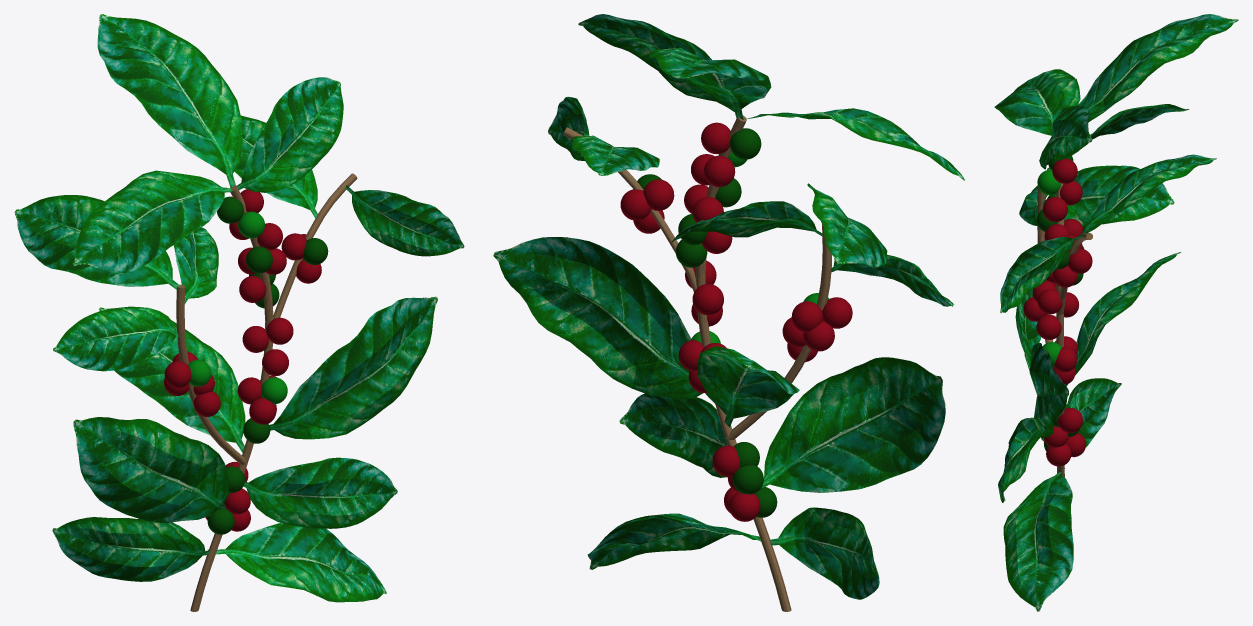
Rendered from planta.gltf.
The picture shows the model from 3 angles, left to right: view 1: azimuth 30°, elevation 25°; view 2: azimuth 150°, elevation 25°; view 3: azimuth 270°, elevation 25°; orthographic projection. The views are drawn at different scales.
Parts seen in each view (by area): view 1: Hoja 2, Hoja 2.001, Hoja 2.005, Hoja 1, Hoja 1.006, Hoja 3.001, Hoja 3, Hoja 3.005, Hoja 2.007, Hoja 3.006, Hoja 1.001, Hoja 2.004 (+5 smaller); view 2: Hoja 2.005, Hoja 2.001, Hoja 3.005, Hoja 3.001, Hoja 1.001, Hoja 1.006, Hoja 2, Hoja 3, Hoja 2.007, Hoja 3.004, Hoja 1, Rama 1 (+18 smaller); view 3: Hoja 1.006, Hoja 2, Hoja 1, Hoja 3.004, Hoja 2.006, Hoja 2.004, Hoja 1.001, Hoja 2.005, Hoja 3.005, Hoja 3, Hoja 3.001, Hoja 2.007 (+18 smaller).
Part boxes in pixels (bbox=[...]): Hoja 2: bbox=[97, 14, 242, 188]; Hoja 2.001: bbox=[73, 417, 229, 523]; Hoja 2.005: bbox=[269, 296, 437, 439]; Hoja 1: bbox=[72, 170, 233, 273]; Hoja 1.006: bbox=[207, 522, 386, 602]; Hoja 3.001: bbox=[243, 457, 397, 528]; Hoja 3: bbox=[230, 77, 343, 192]; Hoja 3.005: bbox=[52, 517, 209, 581]; Hoja 2.007: bbox=[14, 195, 180, 289]; Hoja 3.006: bbox=[53, 307, 178, 371]; Hoja 1.001: bbox=[98, 306, 245, 452]; Hoja 2.004: bbox=[346, 185, 464, 256]; Hoja 2.005: bbox=[493, 237, 714, 403]; Hoja 2.001: bbox=[761, 357, 945, 492]; Hoja 3.005: bbox=[770, 507, 879, 599]; Hoja 3.001: bbox=[619, 393, 727, 477]; Hoja 1.001: bbox=[697, 346, 799, 427]; Hoja 1.006: bbox=[587, 513, 760, 569]; Hoja 2: bbox=[648, 48, 771, 119]; Hoja 3: bbox=[578, 14, 744, 123]; Hoja 2.007: bbox=[807, 183, 887, 267]; Hoja 3.004: bbox=[671, 201, 822, 242]; Hoja 1: bbox=[743, 108, 964, 180]; Rama 1: bbox=[696, 115, 791, 611]; Hoja 1.006: bbox=[1003, 468, 1073, 611]; Hoja 2: bbox=[1078, 14, 1238, 122]; Hoja 1: bbox=[994, 69, 1080, 135]; Hoja 3.004: bbox=[1041, 165, 1174, 226]; Hoja 2.006: bbox=[1082, 154, 1216, 233]; Hoja 2.004: bbox=[1000, 234, 1082, 312]; Hoja 1.001: bbox=[1065, 252, 1181, 385]; Hoja 2.005: bbox=[1029, 343, 1068, 441]; Hoja 3.005: bbox=[1067, 378, 1121, 447]; Hoja 3: bbox=[1039, 105, 1092, 169]; Hoja 3.001: bbox=[998, 417, 1040, 502]; Hoja 2.007: bbox=[1071, 104, 1189, 155].
Size of the model in its own units: 1.15 by 1.53 by 0.6658.
6 materials, 2 textured.
